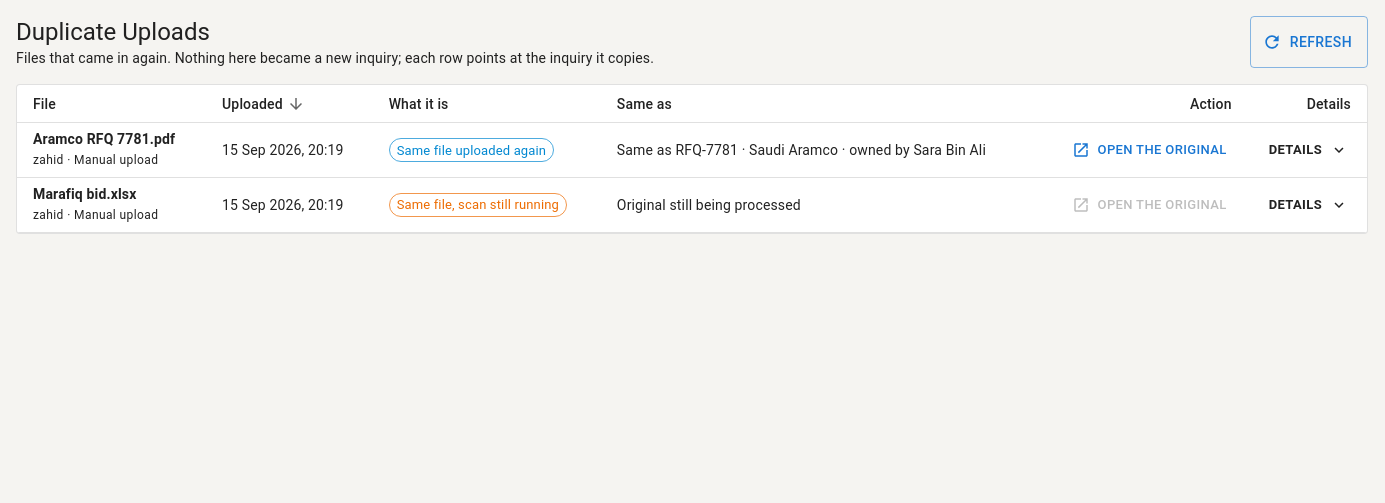
Test: Duplicate Uploads — a row a rep can read › keeps the engineering figures, but behind Details
The width and height of the screenshot is (1385, 503).
Expected: the text "Occurrence" is not shown
Expected: the text "hash 4 ms" is not shown
…but one click away, verbatim, for the person who does read them.
Click the button with aria-label "details for Aramco RFQ 7781.pdf": [1307, 150] box [1264,135,1351,166]
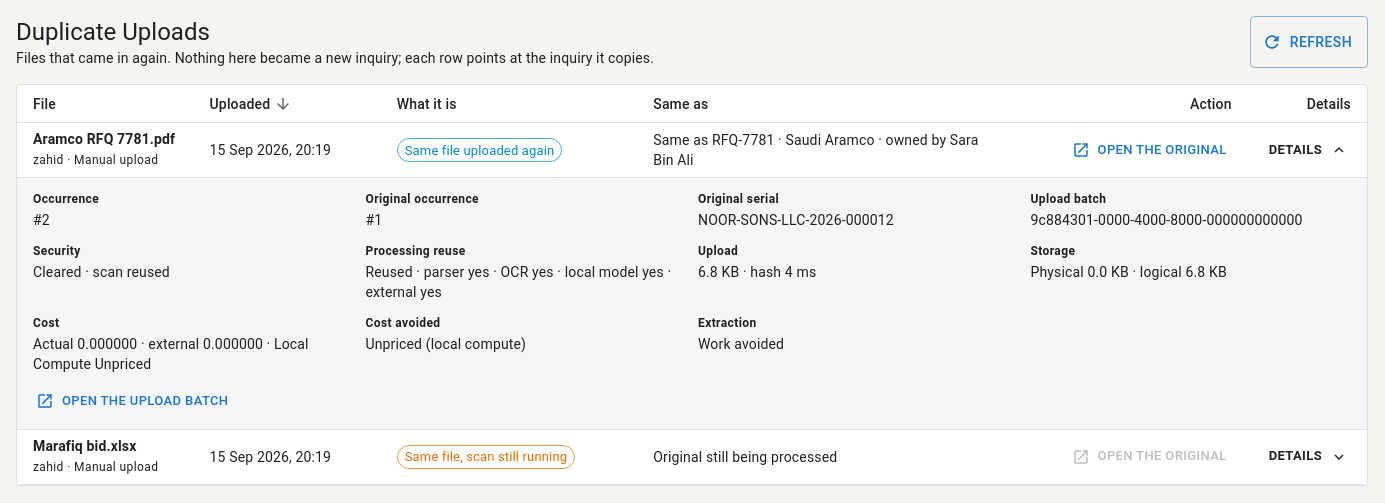
Expected: the text "#2" is shown, [33,212,50,228]
Expected: the text "6.8 KB · hash 4 ms" is shown, [698,264,816,280]
Expected: the text "9c884301-0000-4000-8000-000000000000" is shown, [1030,212,1303,228]
